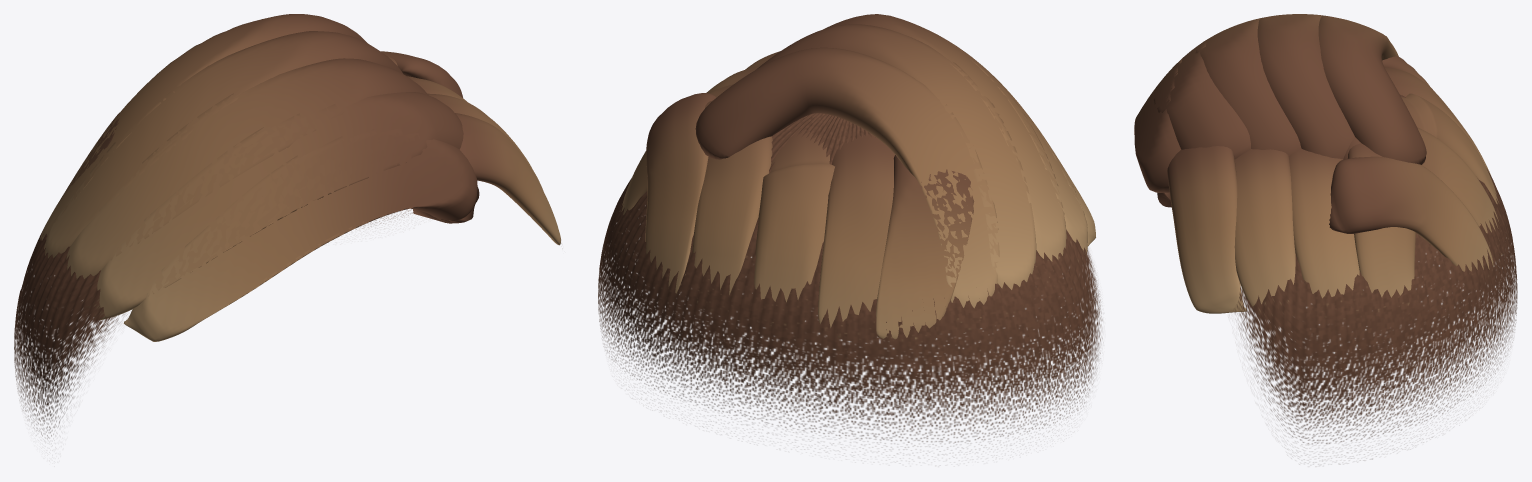
Rendered from Masculine-taper-beanie256-hair-ombre.glb.
3 views of the same model, side by side, from view 1: azimuth 30°, elevation 25°; view 2: azimuth 150°, elevation 25°; view 3: azimuth 270°, elevation 25° (orthographic). The views are drawn at different scales.
Visible parts, largest first — view 1: 226 hair / Hair252 / sculpted locks, 226 hair / Hair252 / gentle tonal variation, 226 hair / Hair256 / selected B sides; view 2: 226 hair / Hair252 / sculpted locks, 226 hair / Hair256 / selected B sides, 226 hair / Hair252 / gentle tonal variation; view 3: 226 hair / Hair252 / sculpted locks, 226 hair / Hair256 / selected B sides, 226 hair / Hair252 / gentle tonal variation.
Part boxes in pixels (bbox=[...]): 226 hair / Hair252 / sculpted locks: bbox=[40, 14, 543, 320]; 226 hair / Hair252 / gentle tonal variation: bbox=[123, 113, 560, 341]; 226 hair / Hair256 / selected B sides: bbox=[14, 209, 561, 438]; 226 hair / Hair252 / sculpted locks: bbox=[621, 14, 1087, 341]; 226 hair / Hair256 / selected B sides: bbox=[598, 113, 1102, 448]; 226 hair / Hair252 / gentle tonal variation: bbox=[745, 51, 1095, 339]; 226 hair / Hair252 / sculpted locks: bbox=[1153, 14, 1501, 319]; 226 hair / Hair256 / selected B sides: bbox=[1235, 94, 1517, 460]; 226 hair / Hair252 / gentle tonal variation: bbox=[1134, 57, 1490, 313].
Size of the model in its own units: 0.972 by 0.6941 by 0.7219.
Materials: 3 (1 with a texture image).
